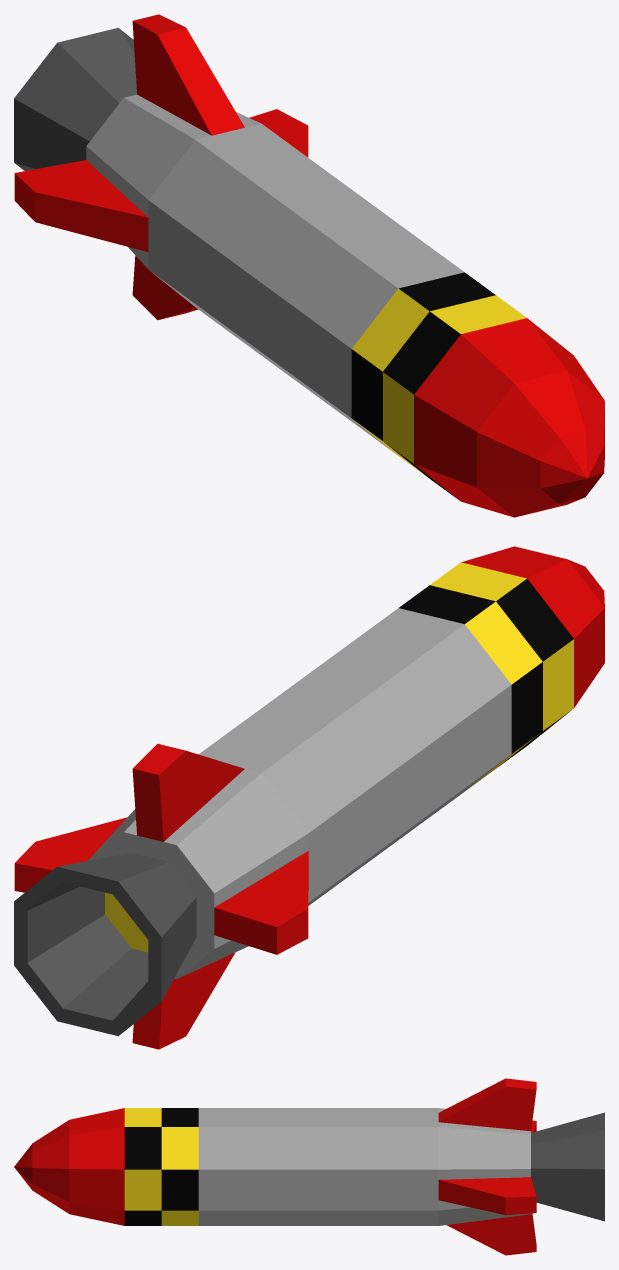
File: MinigunRocket.fbx
3 views of the same model, one above another, from view 1: azimuth 30°, elevation 25°; view 2: azimuth 150°, elevation 25°; view 3: azimuth 270°, elevation 25° (orthographic). The views are drawn at different scales.
Visible parts, largest first — view 1: Cylinder; view 2: Cylinder; view 3: Cylinder.
Part boxes in pixels (x1=…): Cylinder: x1=14, y1=14, x2=604, y2=517; Cylinder: x1=14, y1=546, x2=604, y2=1049; Cylinder: x1=14, y1=1078, x2=604, y2=1255.
Size of the model in its own units: 504 by 504 by 1600.
Materials: 1 (1 with a texture image).
